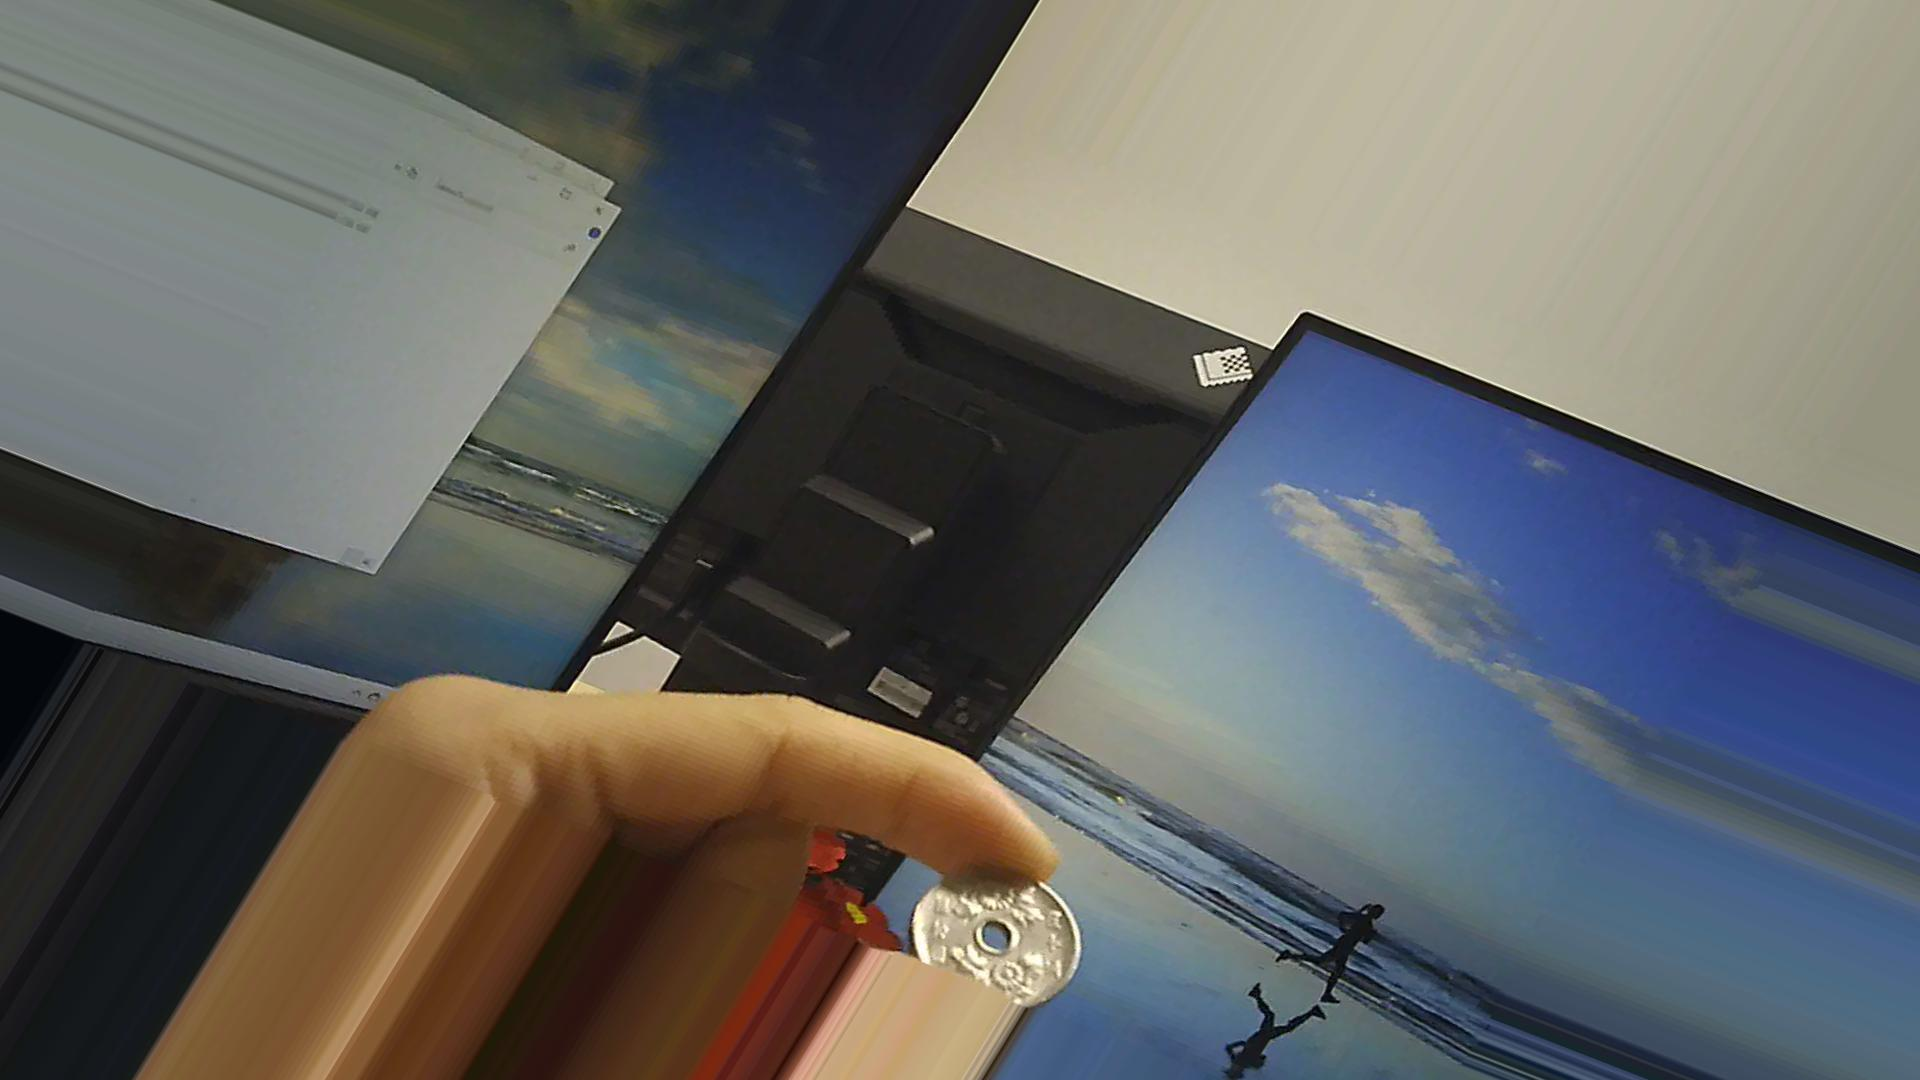50 Yen: (899, 858, 1084, 1015)
